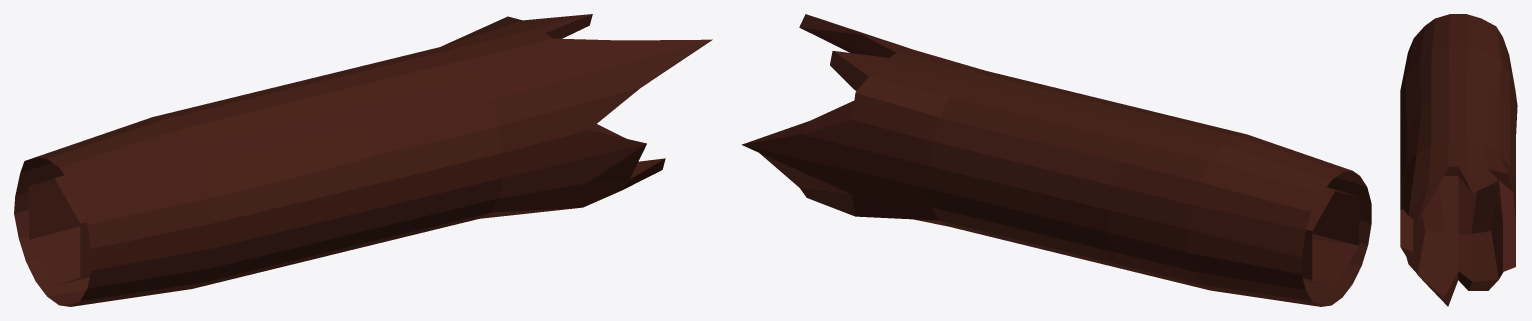
The model's file is LogSmall.fbx.
3 renders of one model, left to right at view 1: azimuth 30°, elevation 25°; view 2: azimuth 150°, elevation 25°; view 3: azimuth 270°, elevation 25°, orthographic. The views are drawn at different scales.
Visible parts, largest first — view 1: Cube.003; view 2: Cube.003; view 3: Cube.003.
Boxes of the visible parts, x1,y1,x2,y2 form: Cube.003: [14, 14, 712, 306]; Cube.003: [741, 14, 1371, 306]; Cube.003: [1400, 14, 1517, 306].
Bounding box in the file's own units: 259 × 62.89 × 63.65.
